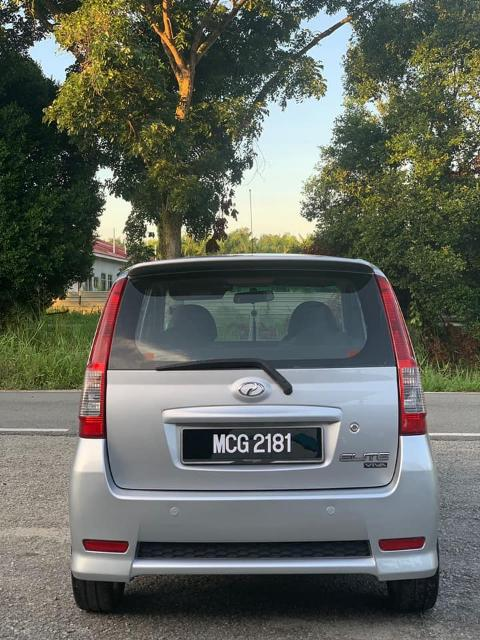License_Plate: (185, 430, 317, 462)
car: (71, 255, 437, 606)
